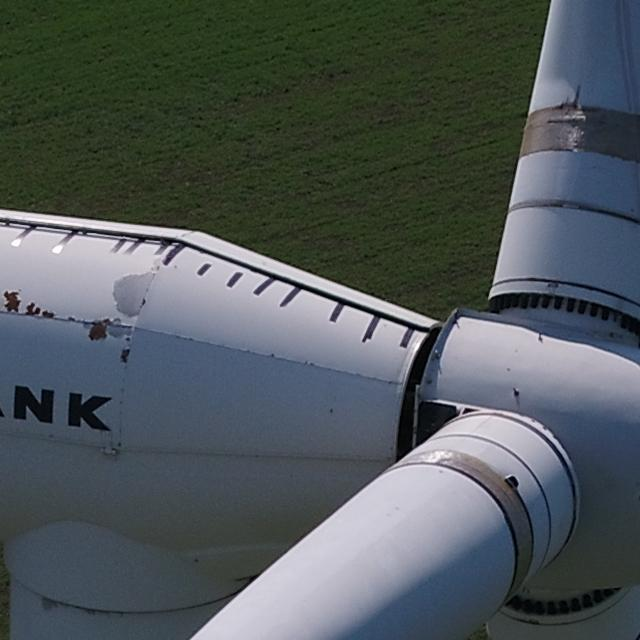damage: (112, 266, 159, 319), (555, 84, 584, 110), (85, 317, 112, 342), (1, 289, 22, 318), (23, 299, 40, 321), (118, 345, 134, 364), (40, 309, 56, 321)
